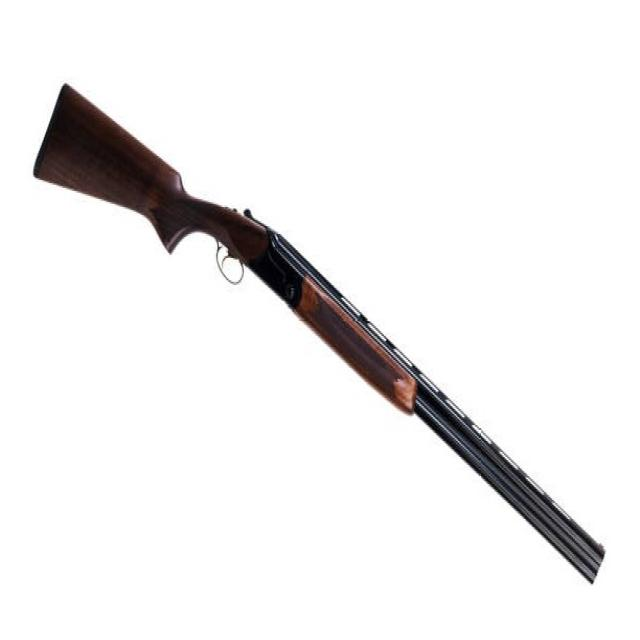rifle: (31, 73, 611, 586)
